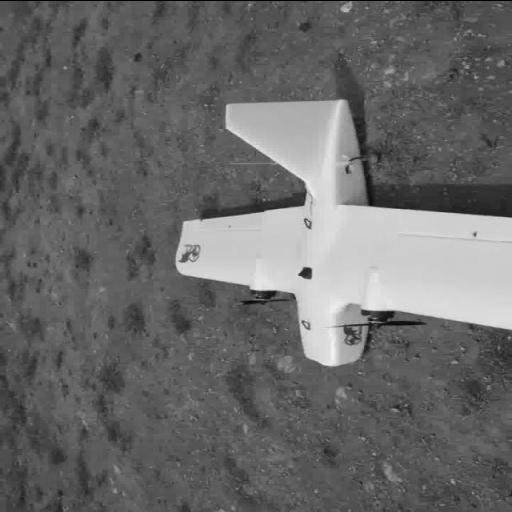uav: (168, 96, 512, 367)
